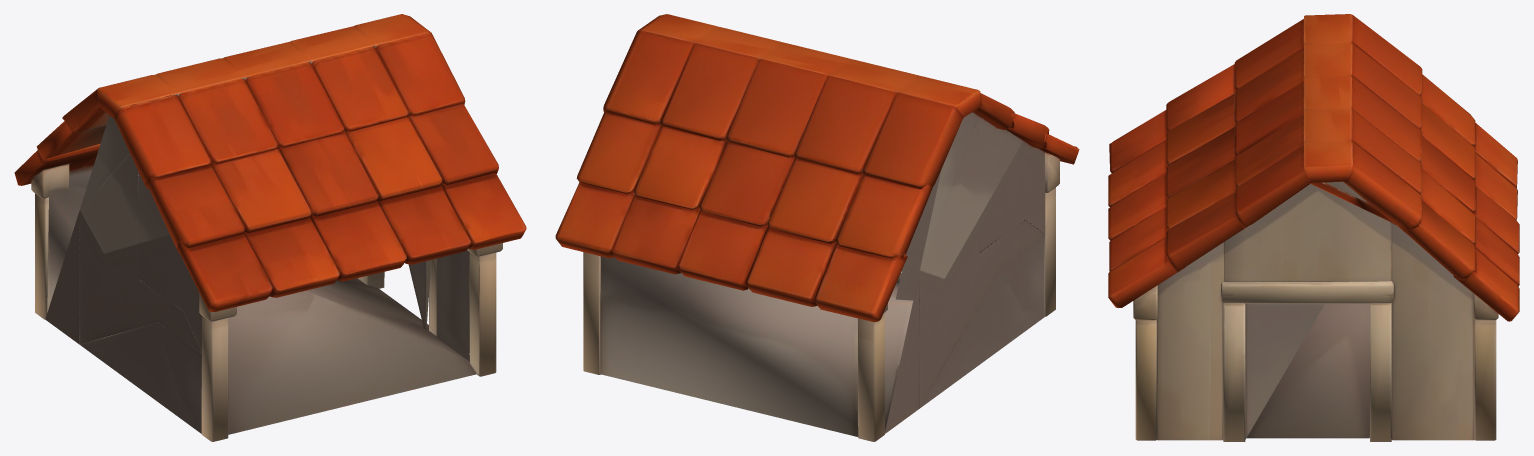
3 renders of one model, left to right at view 1: azimuth 30°, elevation 25°; view 2: azimuth 150°, elevation 25°; view 3: azimuth 270°, elevation 25°, orthographic. The views are drawn at different scales.
Parts seen in each view (by area): view 1: tripo_node_9b7eb27d-4170-4fde-9881-9e4578f948f6; view 2: tripo_node_9b7eb27d-4170-4fde-9881-9e4578f948f6; view 3: tripo_node_9b7eb27d-4170-4fde-9881-9e4578f948f6.
Part boxes in pixels (<box>): tripo_node_9b7eb27d-4170-4fde-9881-9e4578f948f6: <box>14,14,526,441</box>; tripo_node_9b7eb27d-4170-4fde-9881-9e4578f948f6: <box>555,14,1079,441</box>; tripo_node_9b7eb27d-4170-4fde-9881-9e4578f948f6: <box>1108,14,1519,441</box>.
Size of the model in its own units: 0.9004 by 0.7559 by 0.998.
1 material, 1 textured.
